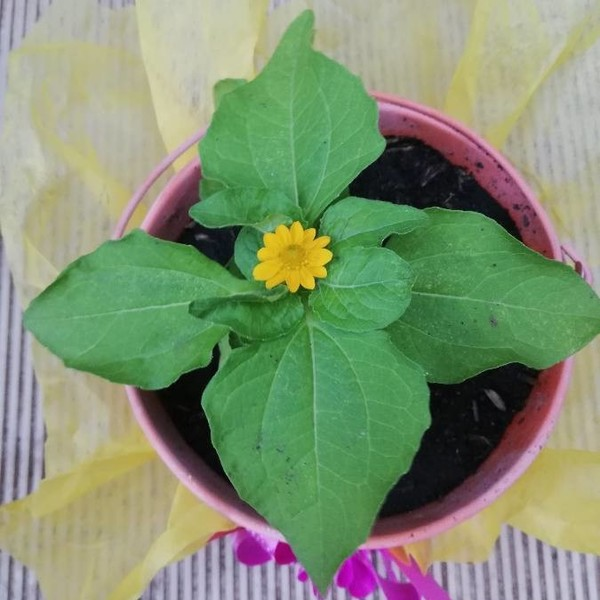obstacle: (45, 53, 579, 571)
